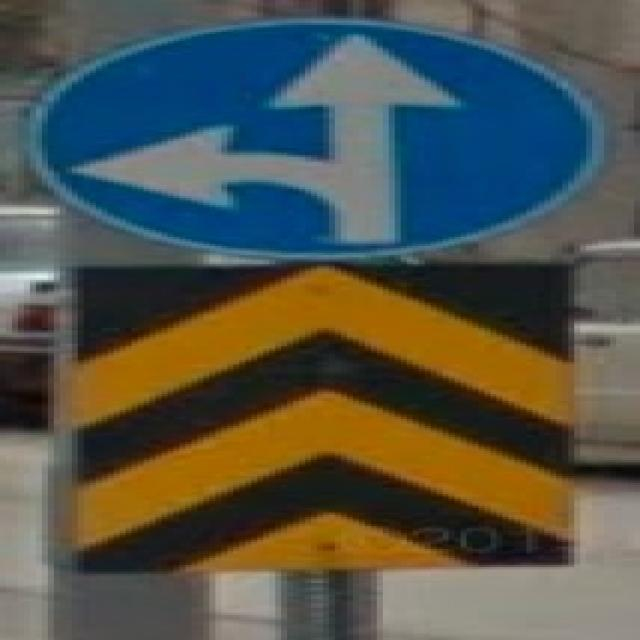Straight or Left: (13, 17, 605, 261)
